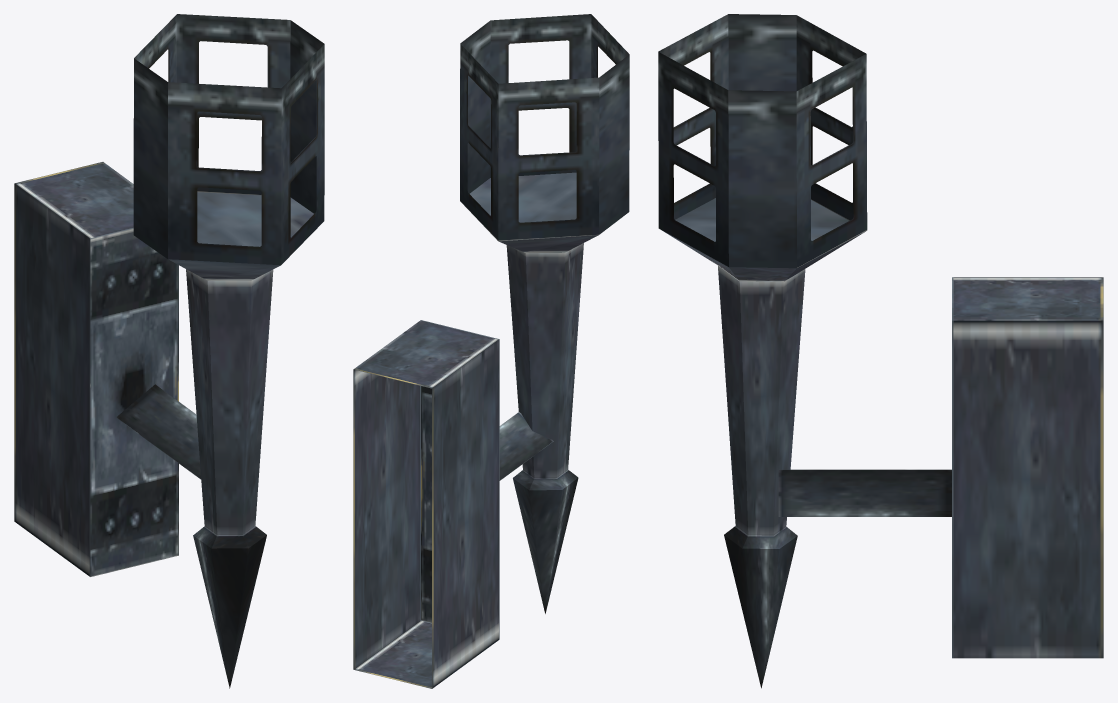
File: walltorch.fbx
3 renders of one model, left to right at view 1: azimuth 30°, elevation 25°; view 2: azimuth 150°, elevation 25°; view 3: azimuth 270°, elevation 25°, orthographic. The views are drawn at different scales.
Visible parts, largest first — view 1: obj0; view 2: obj0; view 3: obj0.
Boxes of the visible parts, <box> form: obj0: <box>14,14,324,688</box>; obj0: <box>353,14,629,688</box>; obj0: <box>658,14,1103,688</box>.
Bounding box in the file's own units: 0.4095 × 1.6 × 1.01.
